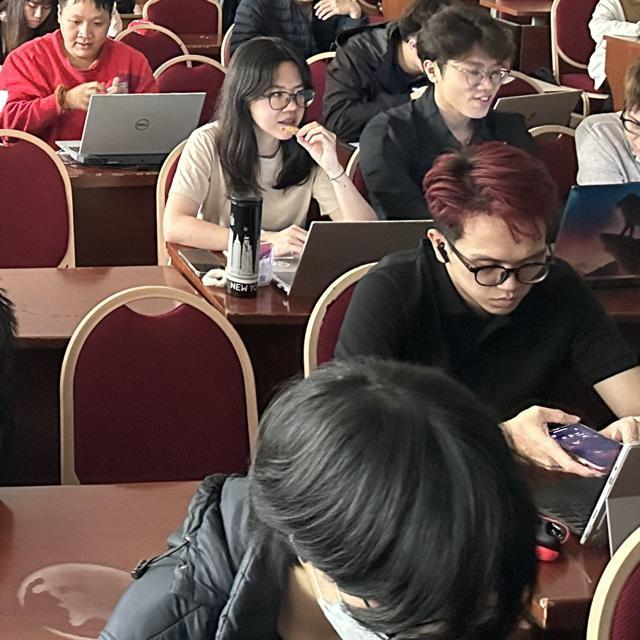Looking away: (419, 13, 513, 119), (58, 6, 114, 53), (12, 1, 56, 30)
Looking forward: (228, 39, 317, 145)
Phone use: (339, 156, 628, 470)
